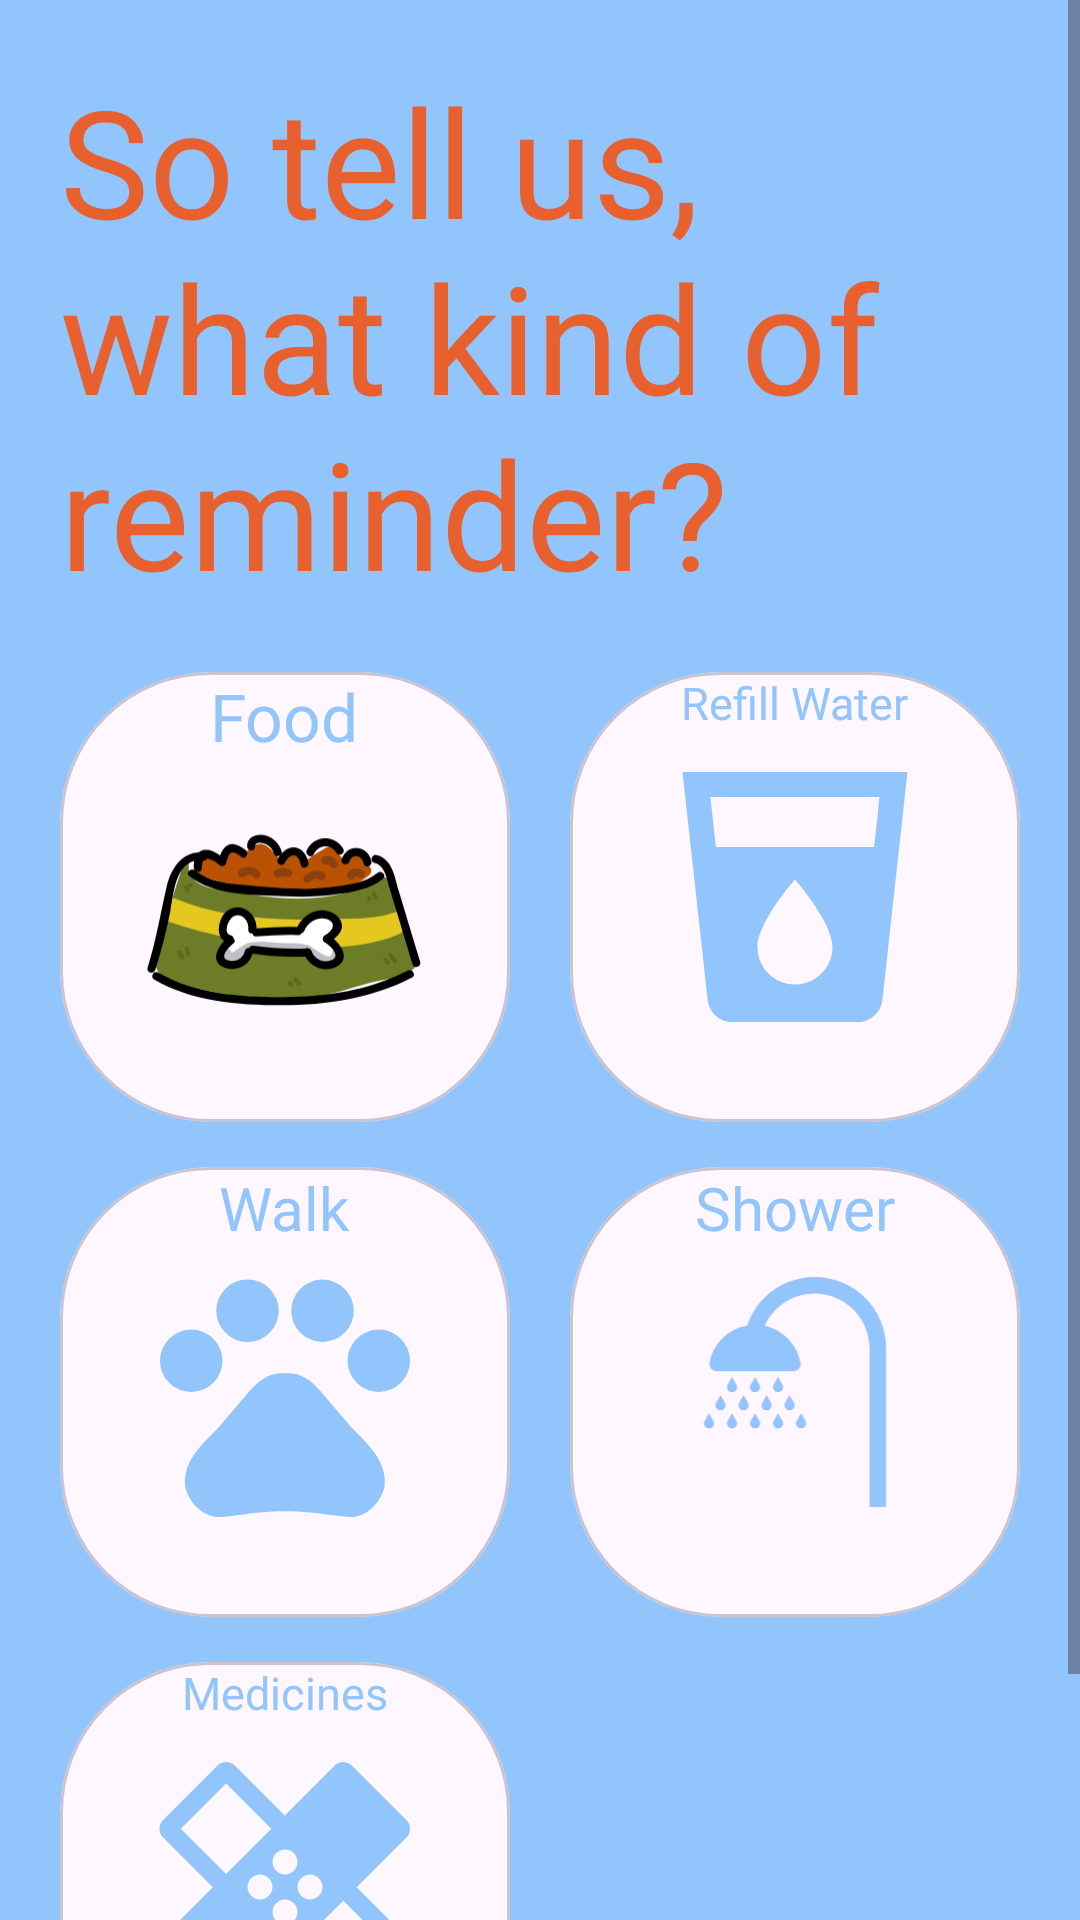

Where icons sit on this 1080x1920 app screen, as (x1, y1, x2, y2):
pets: (160, 1279, 410, 1517)
